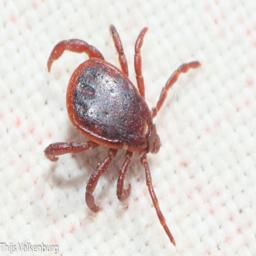Rhipicephalus sanguineus: (45, 24, 201, 246)
